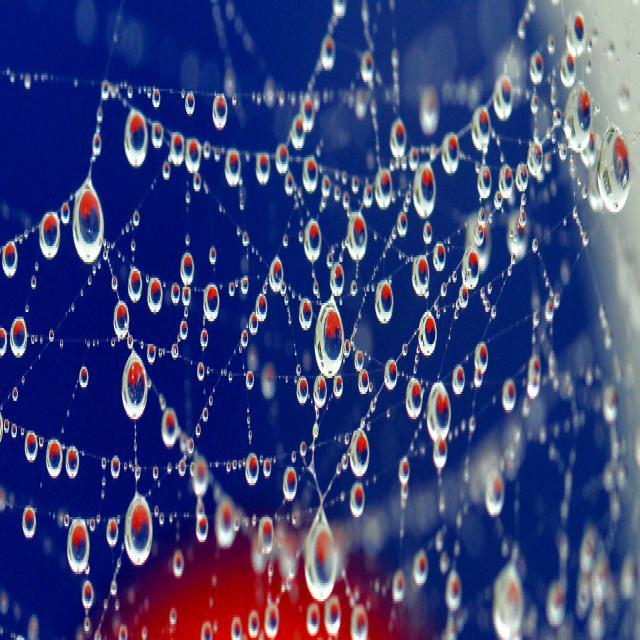raindrop: (66, 154, 112, 290), (594, 104, 636, 234), (300, 506, 347, 618), (316, 278, 354, 390), (560, 65, 599, 165), (59, 501, 98, 593), (116, 92, 156, 176), (122, 486, 155, 578), (408, 148, 442, 232), (434, 116, 474, 186), (424, 366, 456, 452), (118, 348, 150, 430), (489, 61, 523, 132), (466, 88, 499, 160), (298, 200, 330, 273), (15, 485, 43, 555), (400, 366, 430, 431), (342, 200, 369, 270), (38, 198, 62, 271), (415, 294, 440, 364), (194, 273, 226, 327), (372, 272, 400, 332), (303, 148, 328, 214), (177, 236, 201, 304), (266, 239, 288, 312), (158, 394, 182, 454), (412, 244, 433, 308), (294, 283, 316, 342), (382, 348, 404, 406)
